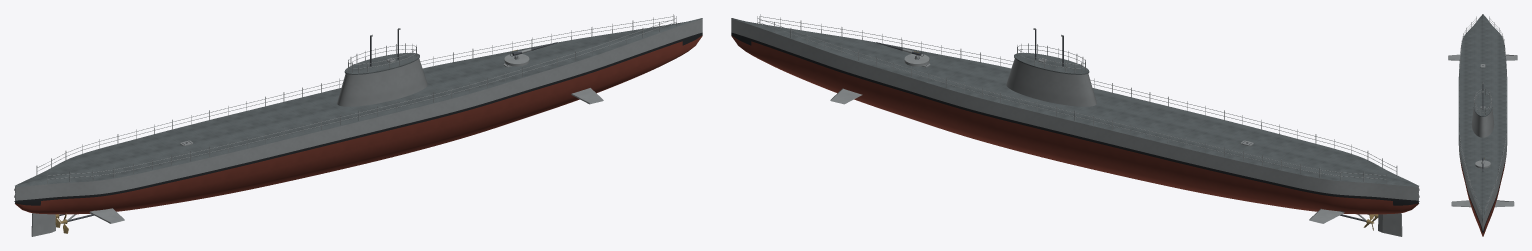
The model's file is l_class_ss_rn.glb.
The picture shows the model from 3 angles, left to right: view 1: azimuth 30°, elevation 25°; view 2: azimuth 150°, elevation 25°; view 3: azimuth 270°, elevation 25°; orthographic projection. The views are drawn at different scales.
Parts seen in each view (by area): view 1: L class; view 2: L class; view 3: L class.
Boxes of the visible parts, <box> form: L class: <box>14,14,702,236</box>; L class: <box>731,14,1419,236</box>; L class: <box>1448,14,1517,236</box>.
Bounding box in the file's own units: 72.69 × 12.33 × 10.22.
Materials: 6 (6 with a texture image).
